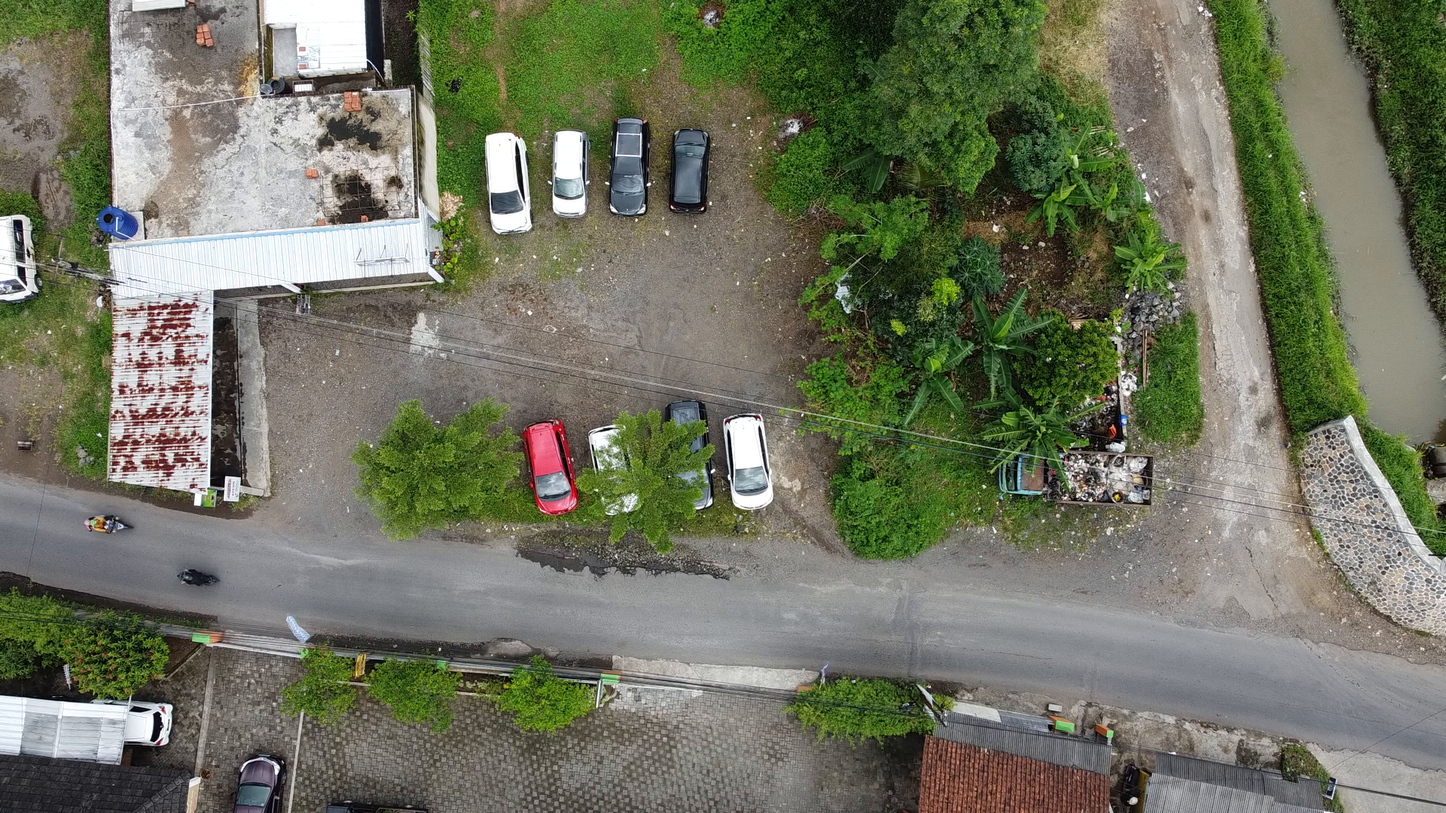mobil: (1329, 362, 1431, 416), (1215, 373, 1310, 419), (52, 500, 157, 541), (712, 426, 804, 472), (728, 198, 815, 245), (454, 129, 541, 175), (1254, 141, 1340, 187), (263, 248, 350, 293), (951, 221, 1030, 270), (1169, 148, 1249, 196), (680, 110, 760, 157), (1229, 48, 1307, 96), (26, 274, 111, 318), (1091, 387, 1181, 428), (126, 262, 209, 306), (505, 36, 586, 81), (855, 187, 937, 230), (606, 442, 689, 483), (615, 217, 699, 257), (986, 400, 1062, 443), (262, 157, 336, 201), (942, 1, 1030, 38), (363, 236, 450, 273), (972, 174, 1047, 215), (516, 221, 591, 260), (876, 410, 951, 443), (1011, 75, 1062, 118), (209, 490, 276, 518), (327, 477, 389, 507), (1169, 1, 1252, 20), (525, 455, 563, 489), (1, 285, 19, 323)
